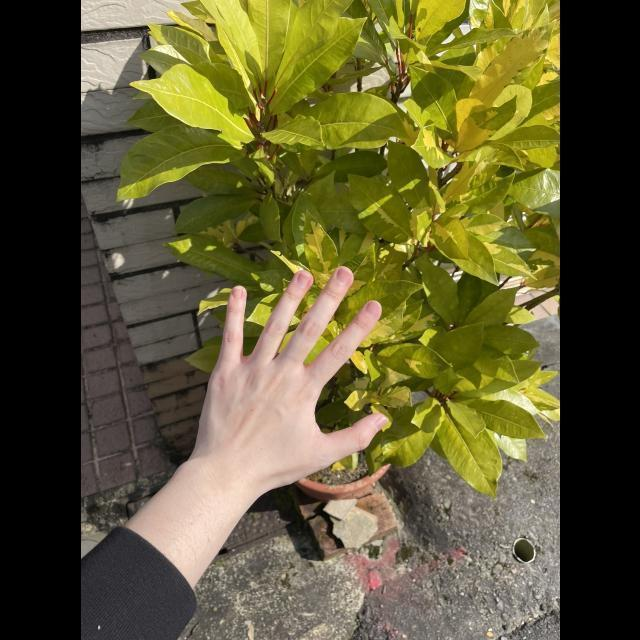bare_hand: (199, 263, 391, 485)
